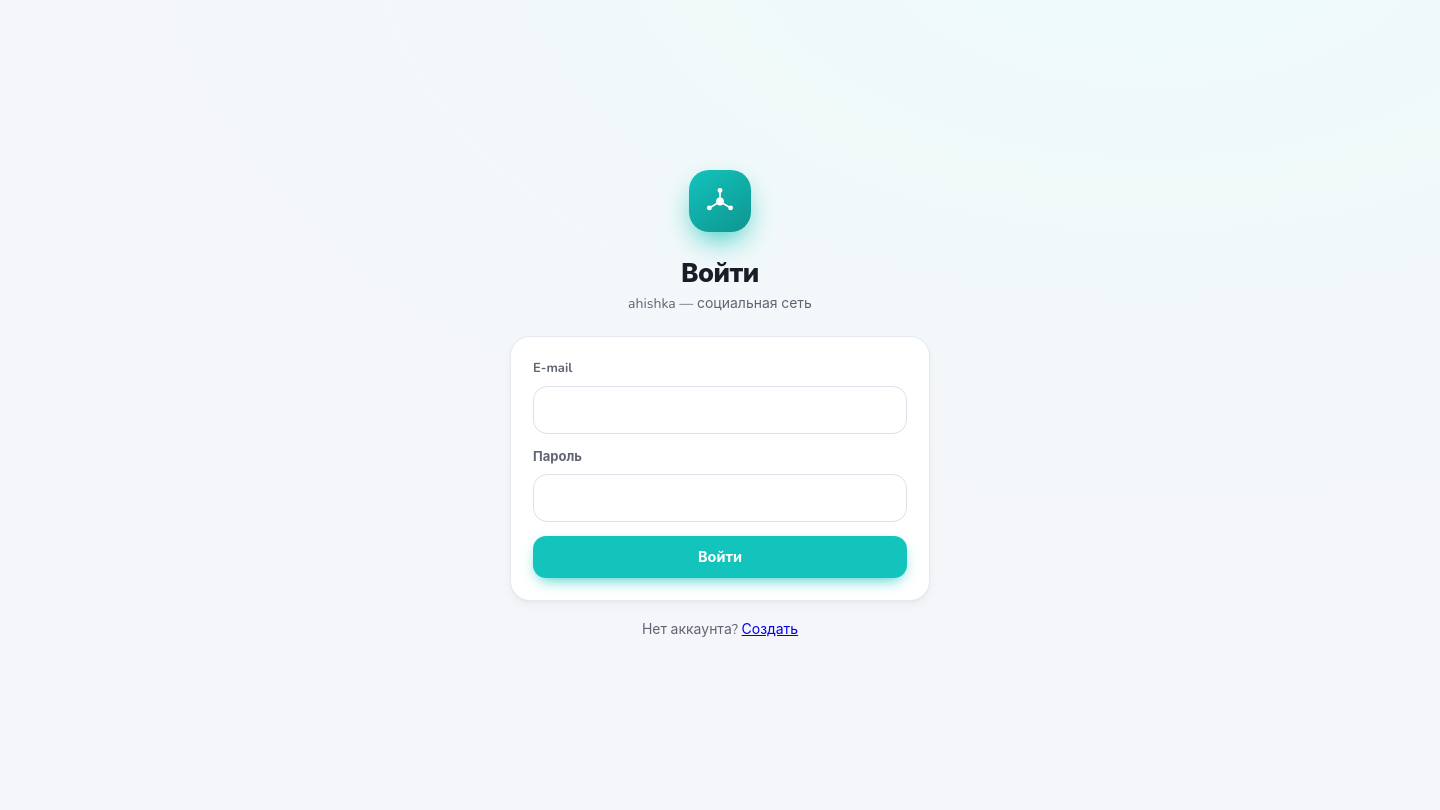
Test case: вход отправляет форму и не кладёт токен в localStorage
Check: the heading "Войти" is shown, box [681, 256, 759, 291]
Type "feed@example.com" into the field labelled "E-mail" at x=720, y=410, box [533, 386, 907, 434]
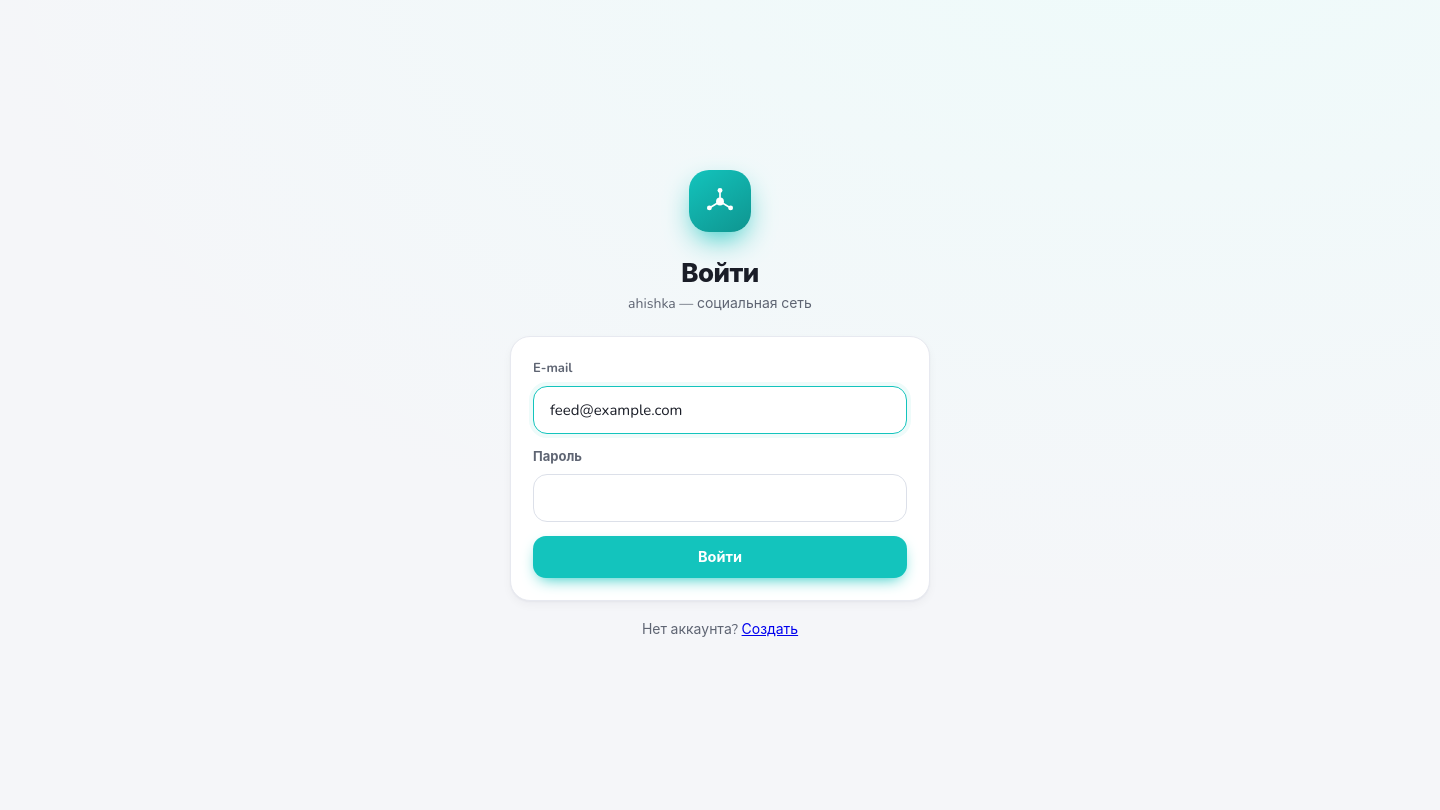
Type "password123" into the password field labelled "Пароль" at x=720, y=498, box [533, 474, 907, 522]
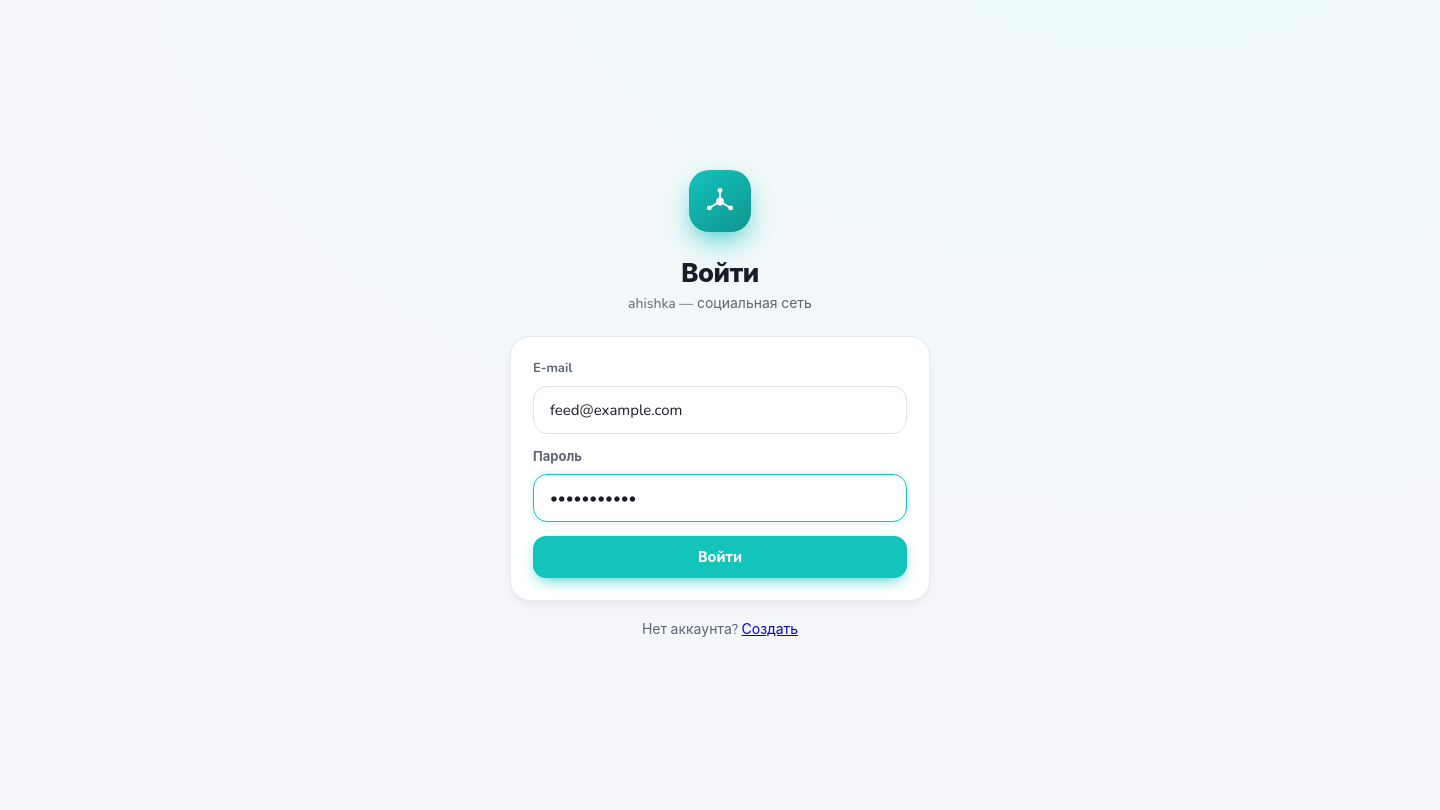
Click the button "Войти" at x=720, y=557, box [533, 536, 907, 578]
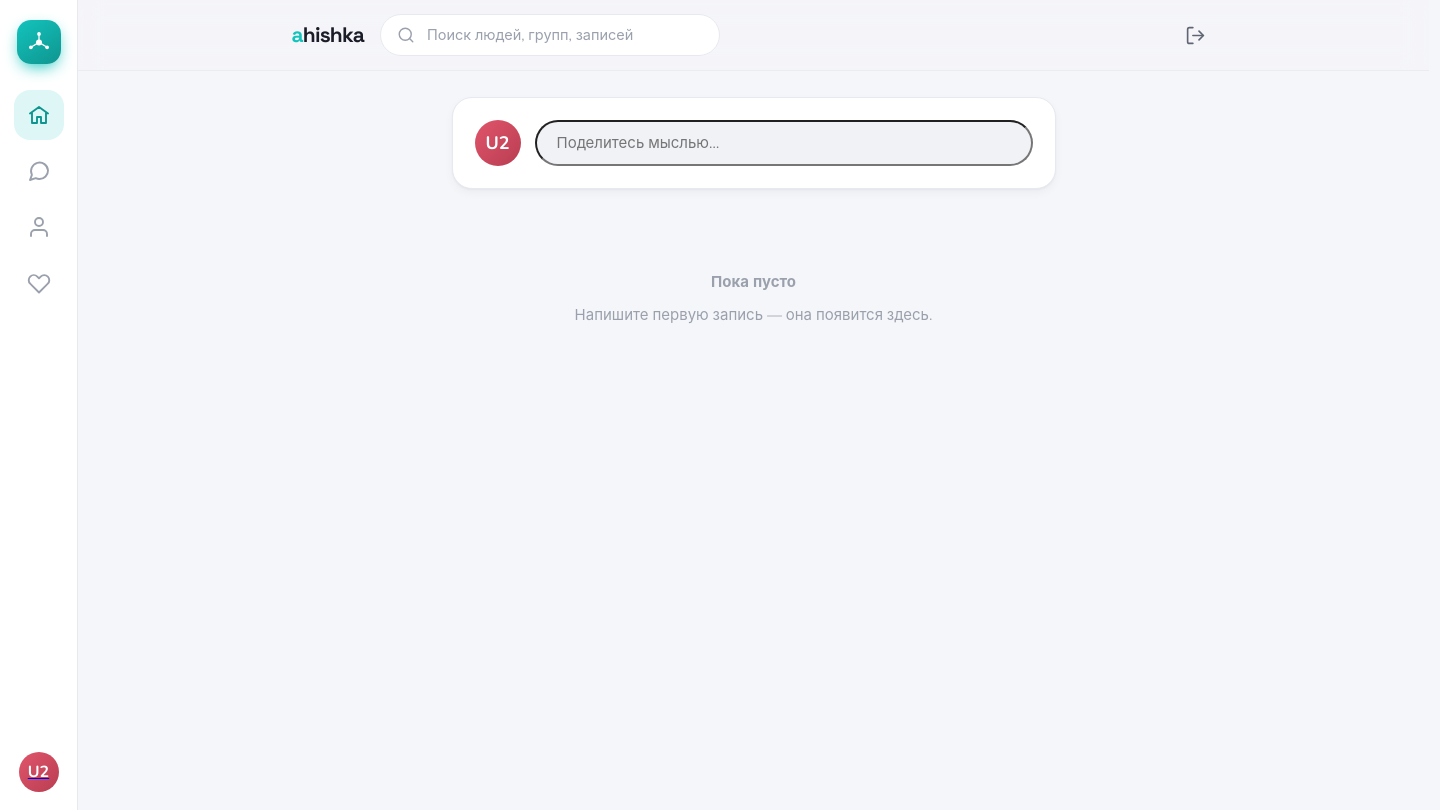
Check: the field with placeholder "Поделитесь мыслью…" is shown, box [534, 120, 1032, 166]
